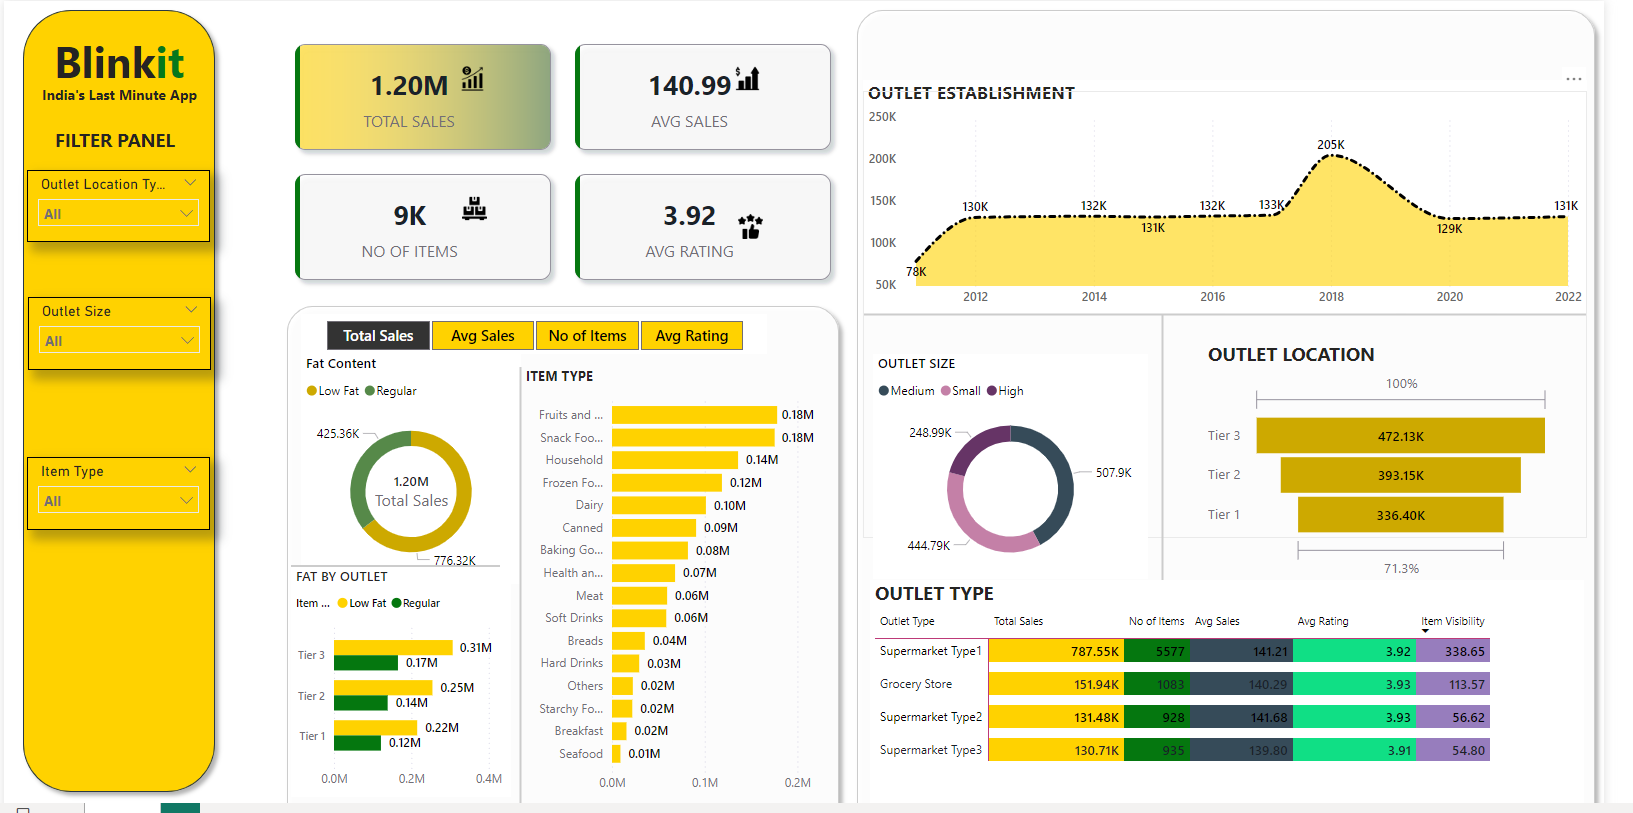

Layout of this report page (visuals, bound fields, positions):
{"tool":"powerbi","page":{"name":"Page 1","canvas":[1600,900],"ordinal":0},"visuals":[{"type":"shape","box":[9.7,0,210,800],"z":0},{"type":"textbox","box":[9.7,25.5,210.3,105.8],"z":1000},{"type":"textbox","box":[0,79,231,59.6],"z":2000},{"type":"cardVisual","fields":{"Data":["BlinkIT Grocery Data.Total Sales","BlinkIT Grocery Data.Avg Sales","BlinkIT Grocery Data.No of Items","BlinkIT Grocery Data.Avg Rating"]},"box":[274.3,25.7,570,270],"z":3000},{"type":"shape","box":[274.3,295.7,570,604.3],"z":4000},{"type":"donutChart","title":"Fat Content","fields":{"Y":["BlinkIT Grocery Data.Total Sales"],"Category":["BlinkIT Grocery Data.Item Fat Content"]},"box":[297.1,352.9,220,230],"z":5000},{"type":"slicer","fields":{"Values":["METRICS.METRICS"]},"box":[297.1,312.9,465.7,40],"z":6000},{"type":"cardVisual","fields":{"Data":["BlinkIT Grocery Data.Total Sales"]},"box":[348.6,450,117.1,78.6],"z":7000},{"type":"clusteredBarChart","title":"FAT BY OUTLET","fields":{"Y":["BlinkIT Grocery Data.Total Sales"],"Category":["BlinkIT Grocery Data.Outlet Location Type"],"Series":["BlinkIT Grocery Data.Item Fat Content"]},"box":[287.1,565.7,220,230],"z":8000},{"type":"shape","box":[287.1,537.1,208.6,55.7],"z":9000},{"type":"shape","box":[364.3,365.7,304.3,447.1],"z":10000},{"type":"barChart","title":"ITEM TYPE","fields":{"Y":["BlinkIT Grocery Data.Total Sales"],"Category":["BlinkIT Grocery Data.Item Type"]},"box":[517.1,365.7,311.4,434.3],"z":11000},{"type":"shape","box":[844.3,0,755.7,900],"z":12000},{"type":"lineChart","title":"OUTLET ESTABLISHMENT","fields":{"Category":["BlinkIT Grocery Data.Outlet Establishment Year"],"Y":["BlinkIT Grocery Data.Total Sales"]},"box":[858.6,78.6,724.3,235.7],"z":13000},{"type":"shape","box":[858.6,90,724.3,447.1],"z":14000},{"type":"donutChart","title":"OUTLET SIZE","fields":{"Y":["BlinkIT Grocery Data.Total Sales"],"Category":["BlinkIT Grocery Data.Outlet Size"]},"box":[868.6,352.9,275,225],"z":15000},{"type":"shape","box":[910,312.9,497.1,285.7],"z":16000},{"type":"funnel","title":"OUTLET LOCATION","fields":{"Y":["Sum(BlinkIT Grocery Data.Sales)"],"Category":["BlinkIT Grocery Data.Outlet Location Type"]},"box":[1198.6,340,352.9,242.9],"z":17000},{"type":"pivotTable","title":"OUTLET TYPE","fields":{"Rows":["BlinkIT Grocery Data.Outlet Type"],"Values":["BlinkIT Grocery Data.Total Sales","BlinkIT Grocery Data.No of Items","BlinkIT Grocery Data.Avg Sales","BlinkIT Grocery Data.Avg Rating","Sum(BlinkIT Grocery Data.Item Visibility)"]},"box":[865.7,578.6,714.3,264.3],"z":18000},{"type":"slicer","fields":{"Values":["BlinkIT Grocery Data.Outlet Location Type"]},"box":[22.9,168.6,182.9,72.9],"z":19000},{"type":"slicer","fields":{"Values":["BlinkIT Grocery Data.Outlet Size"]},"box":[24.3,295.7,182.9,72.9],"z":19001},{"type":"slicer","fields":{"Values":["BlinkIT Grocery Data.Item Type"]},"box":[22.9,455.7,182.9,72.9],"z":19002},{"type":"textbox","box":[45.7,121.4,161.4,40],"z":19003}]}

Visuals, with their boxes on the page's 1600x900 design canvas (x1, y1, x2, y2). These are canvas units, not pixel positions in the 1633x813 screenshot, which may show the page scaled, cropped or inside an application window:
shape: detection(10, 0, 220, 800)
textbox: detection(10, 26, 220, 131)
textbox: detection(0, 79, 231, 139)
cardVisual - BlinkIT Grocery Data.Total Sales x BlinkIT Grocery Data.Avg Sales: detection(274, 26, 844, 296)
shape: detection(274, 296, 844, 900)
"Fat Content" donutChart: detection(297, 353, 517, 583)
slicer - METRICS.METRICS: detection(297, 313, 763, 353)
cardVisual - BlinkIT Grocery Data.Total Sales: detection(349, 450, 466, 529)
"FAT BY OUTLET" clusteredBarChart: detection(287, 566, 507, 796)
shape: detection(287, 537, 496, 593)
shape: detection(364, 366, 669, 813)
"ITEM TYPE" barChart: detection(517, 366, 828, 800)
shape: detection(844, 0, 1600, 900)
"OUTLET ESTABLISHMENT" lineChart: detection(859, 79, 1583, 314)
shape: detection(859, 90, 1583, 537)
"OUTLET SIZE" donutChart: detection(869, 353, 1144, 578)
shape: detection(910, 313, 1407, 599)
"OUTLET LOCATION" funnel: detection(1199, 340, 1552, 583)
"OUTLET TYPE" pivotTable: detection(866, 579, 1580, 843)
slicer - BlinkIT Grocery Data.Outlet Location Type: detection(23, 169, 206, 242)
slicer - BlinkIT Grocery Data.Outlet Size: detection(24, 296, 207, 369)
slicer - BlinkIT Grocery Data.Item Type: detection(23, 456, 206, 529)
textbox: detection(46, 121, 207, 161)
